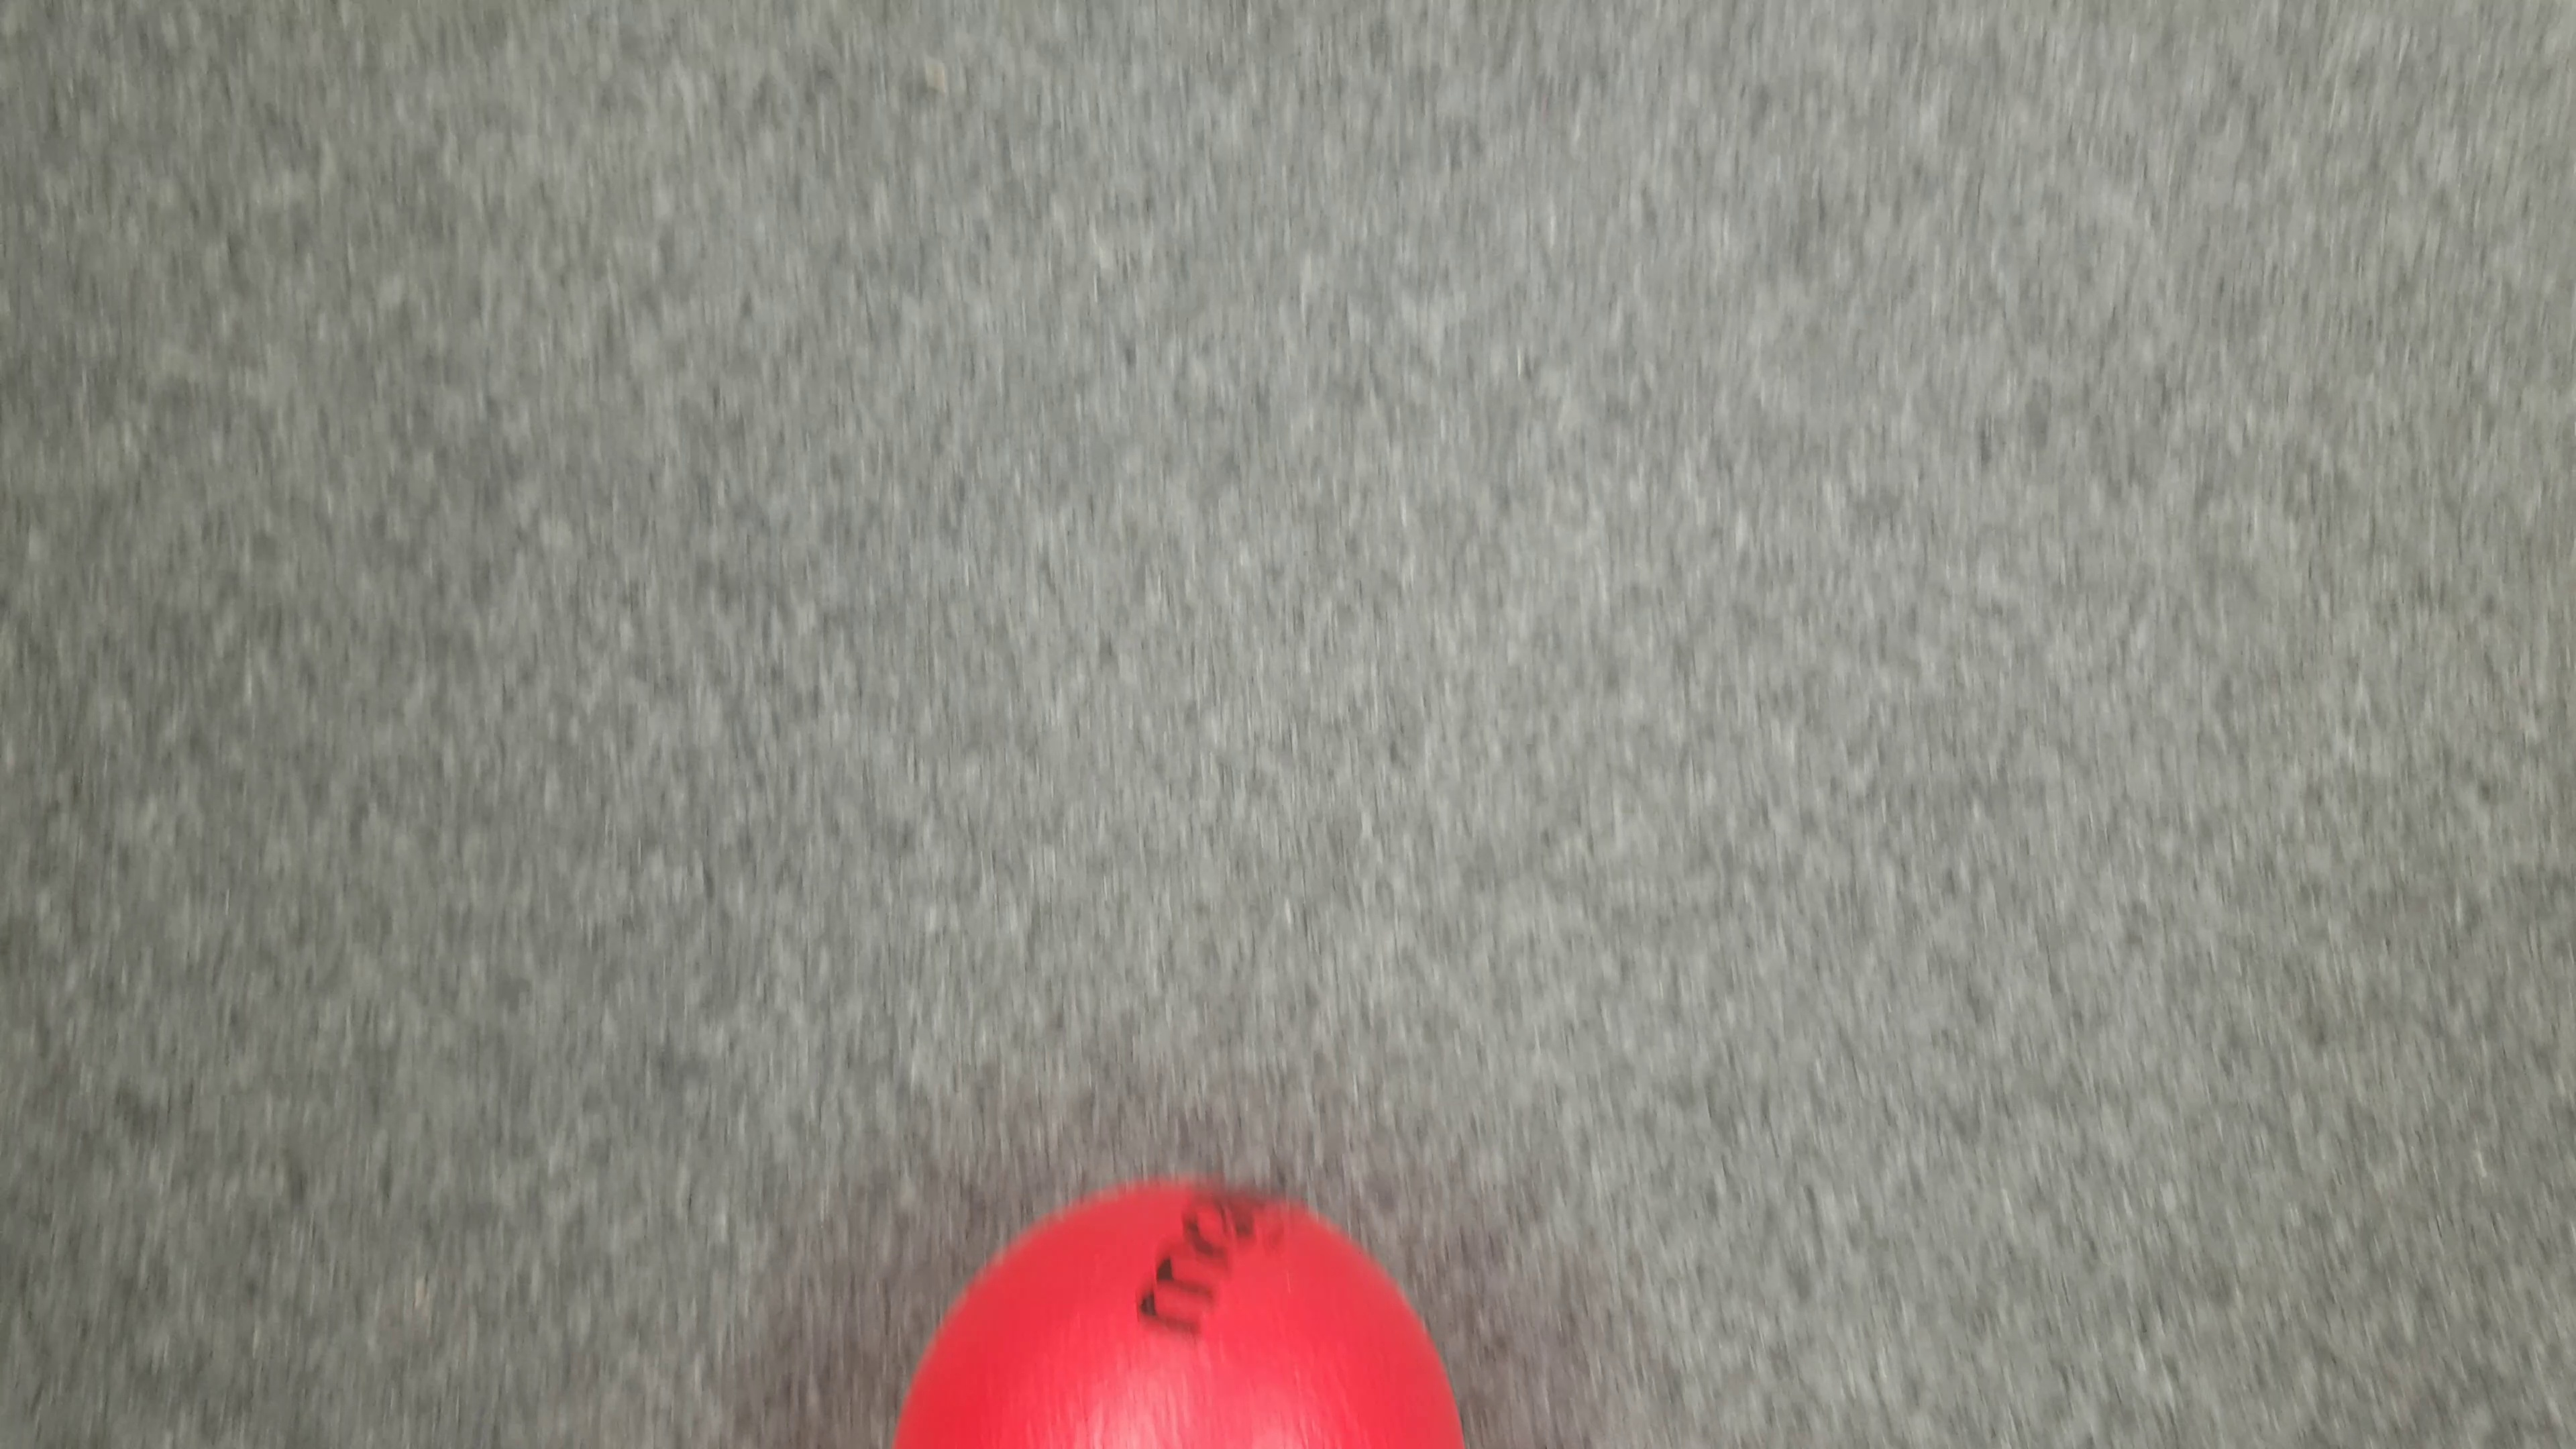kick: (888, 1178, 1461, 1449)
